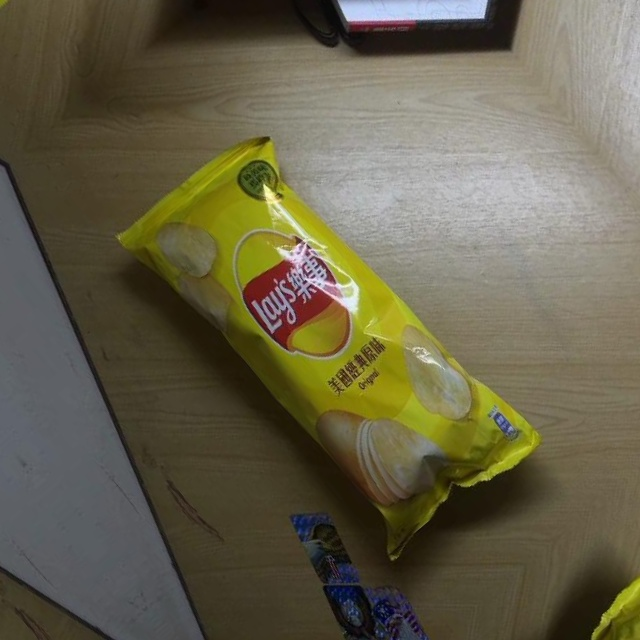Lay-s-original: (110, 107, 548, 575)
